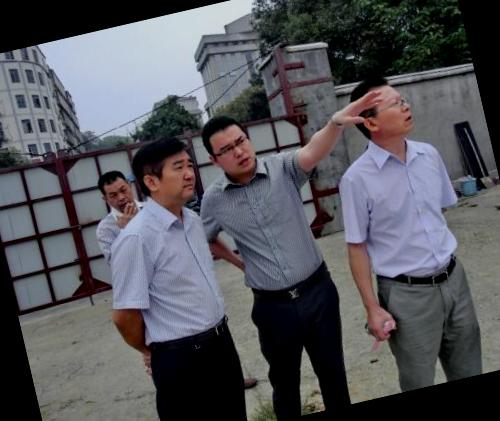no_helmet: (339, 65, 423, 149), (129, 126, 202, 212), (194, 105, 264, 182), (92, 162, 138, 219)
